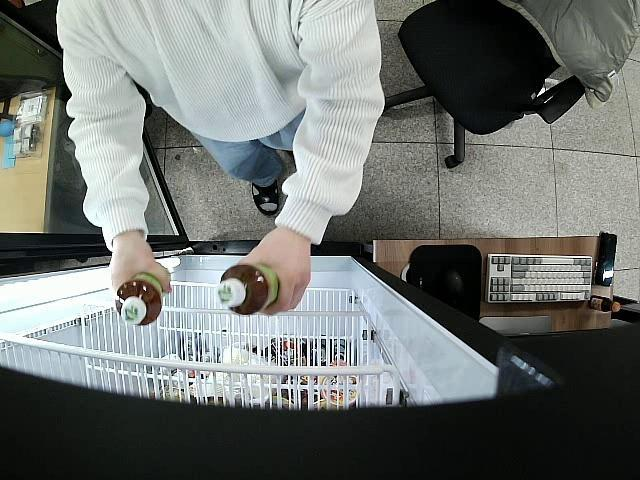19_17cha: (215, 263, 278, 316), (114, 274, 164, 328)
